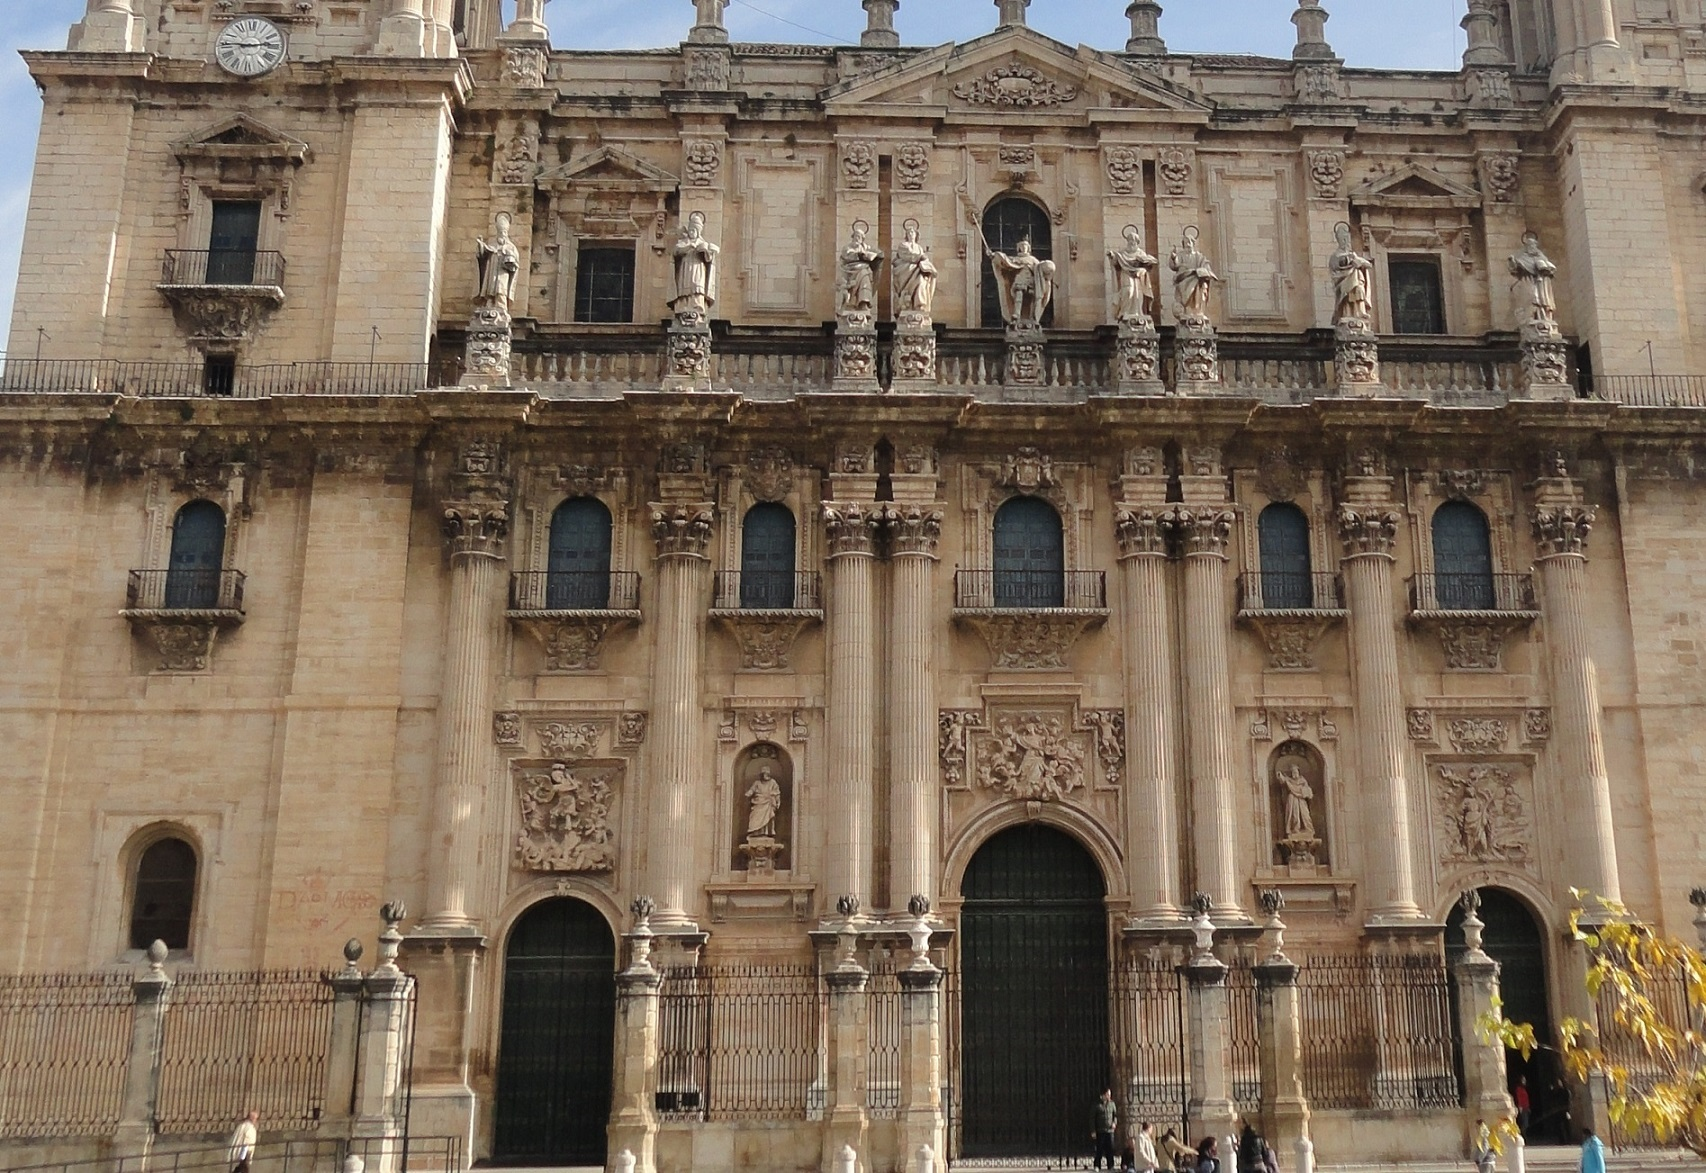arco-medio-punto: (939, 795, 1130, 920), (493, 876, 622, 964), (1436, 870, 1556, 947), (111, 811, 213, 881), (976, 181, 1063, 238), (723, 734, 801, 784), (989, 490, 1066, 537), (1263, 734, 1334, 779), (546, 489, 616, 533), (732, 494, 805, 534), (1425, 493, 1496, 533), (169, 493, 229, 531), (1252, 496, 1316, 533)
fronton: (165, 108, 312, 170), (532, 143, 682, 197), (1346, 159, 1487, 215)
fronton-partido: (814, 21, 1224, 132)
vano-adintelado: (165, 172, 297, 289), (1366, 226, 1470, 340), (554, 215, 655, 327)
